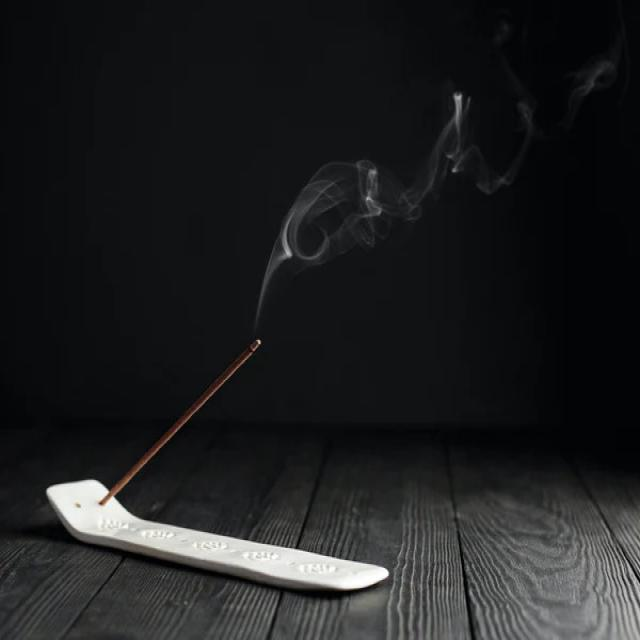Agarbatti: (92, 335, 269, 512)
